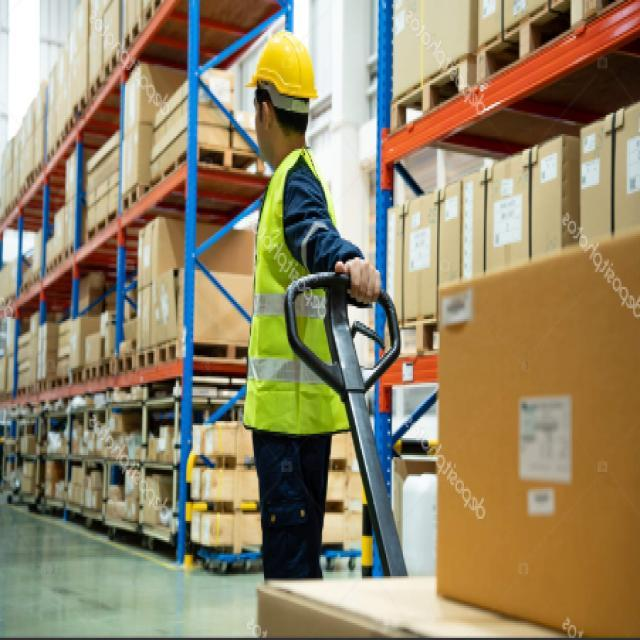hard_hat: (240, 27, 323, 163)
vest: (236, 146, 353, 440)
